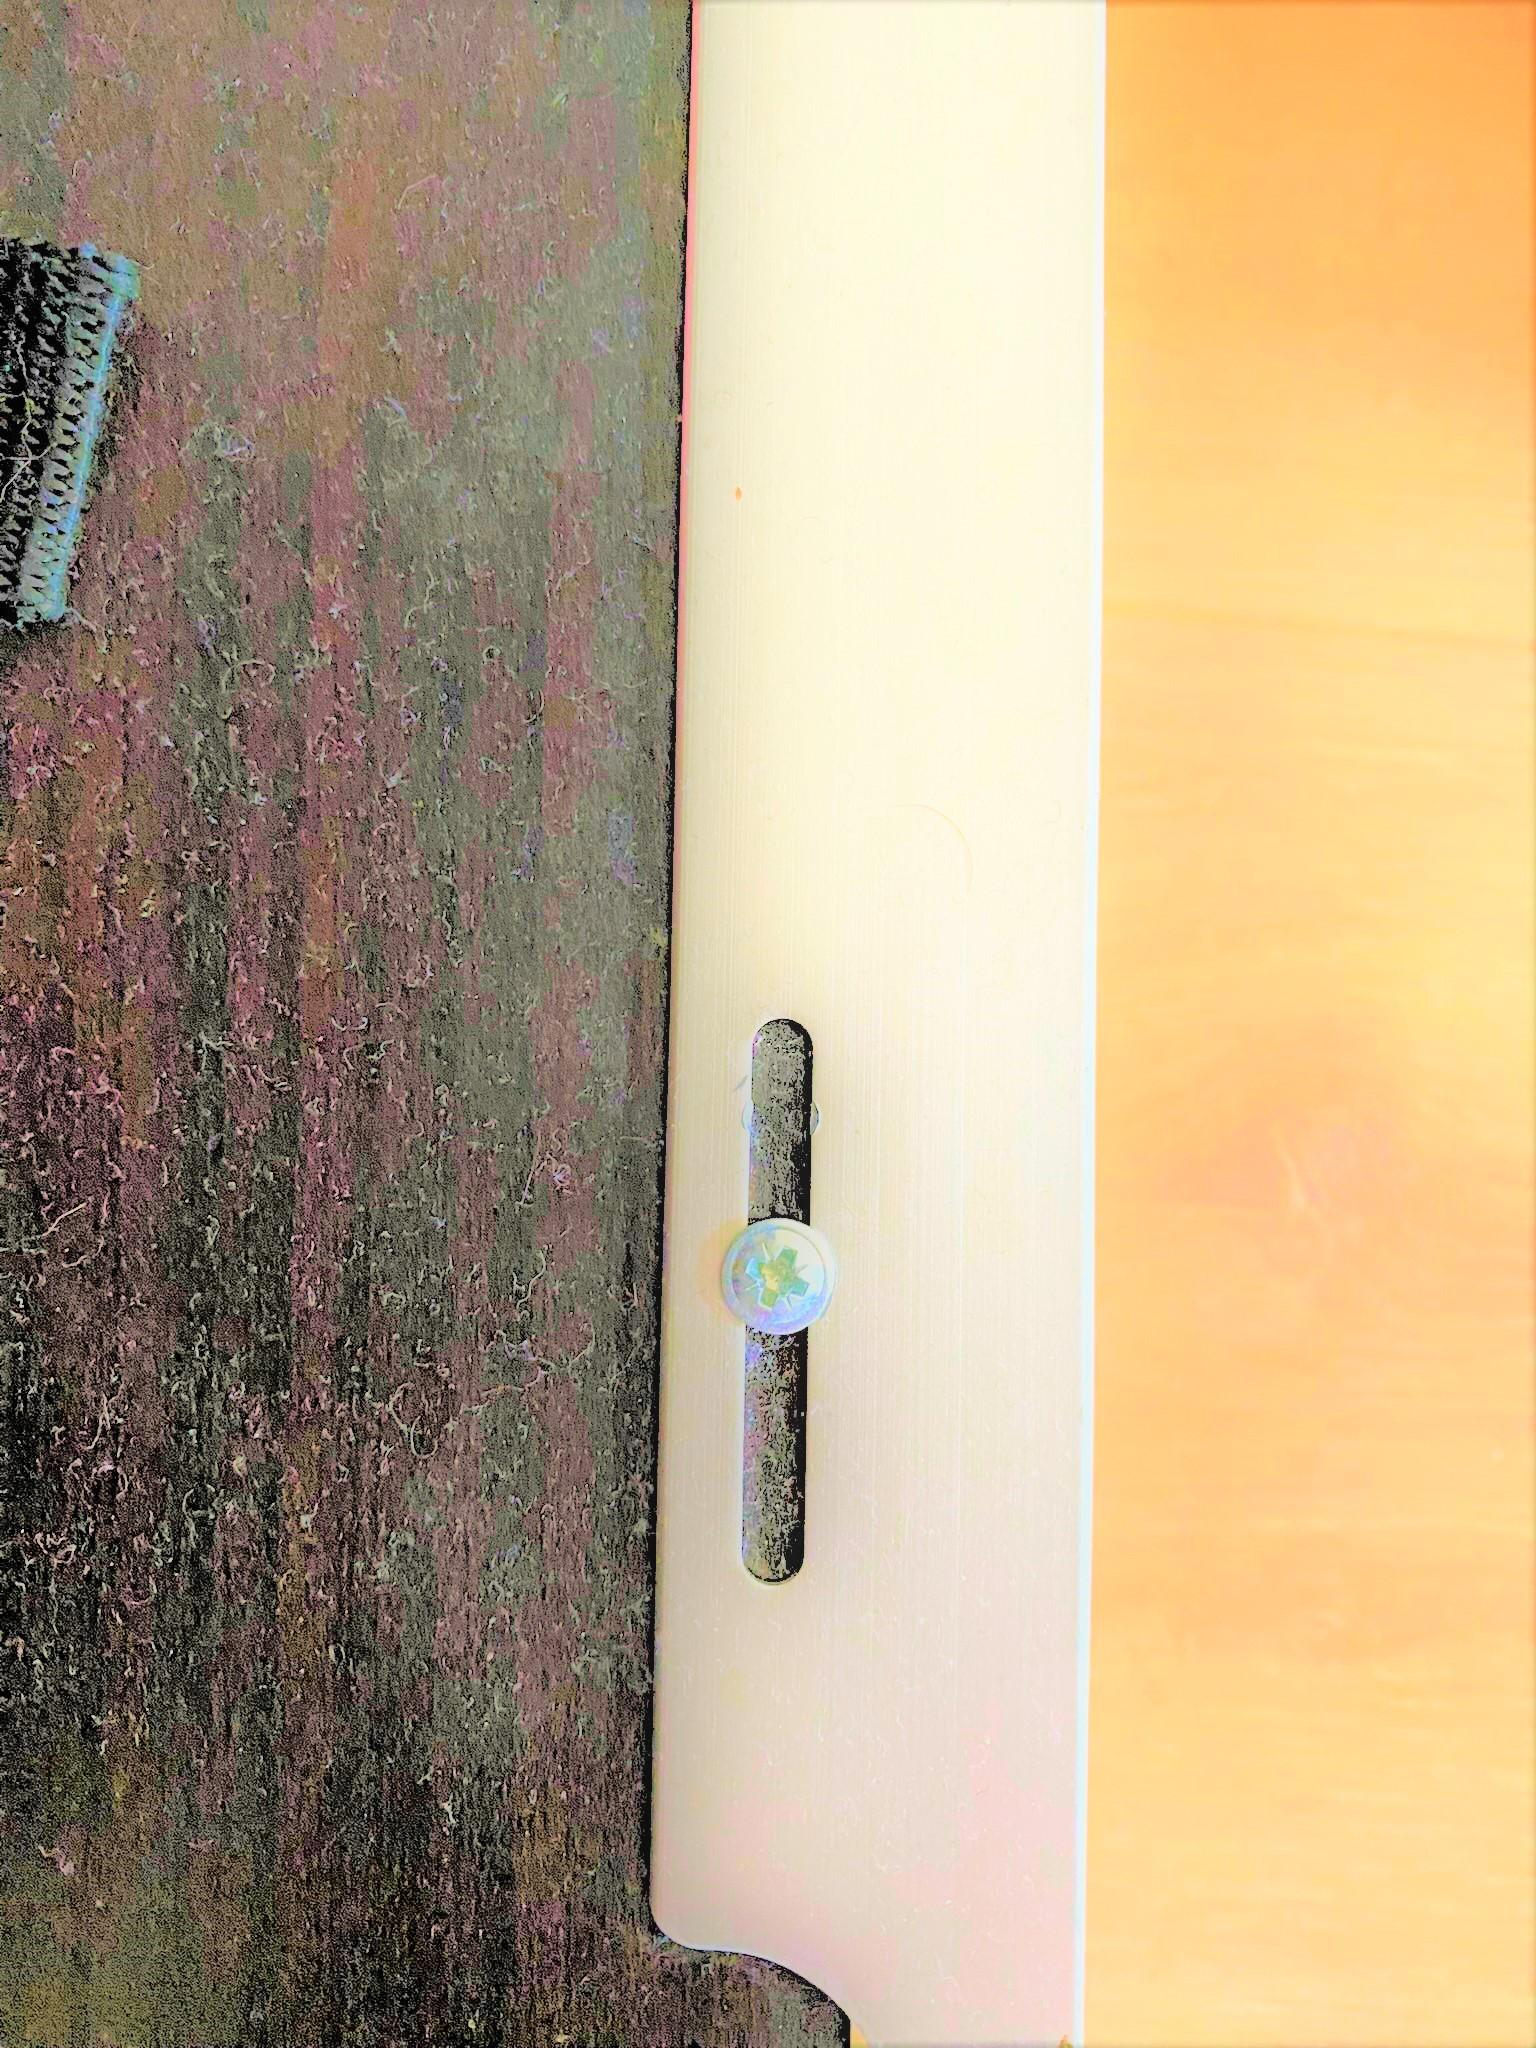PH: (721, 1216, 837, 1335)
